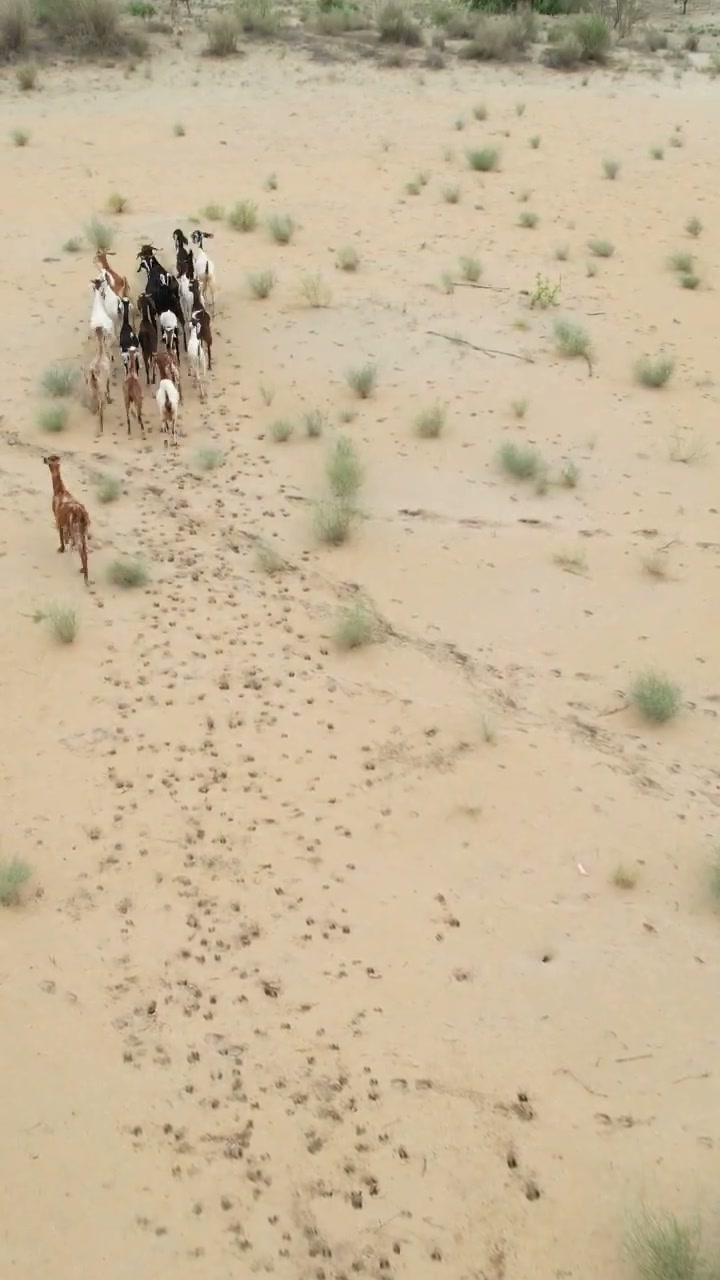animal_foot_print: (94, 413, 539, 1274)
